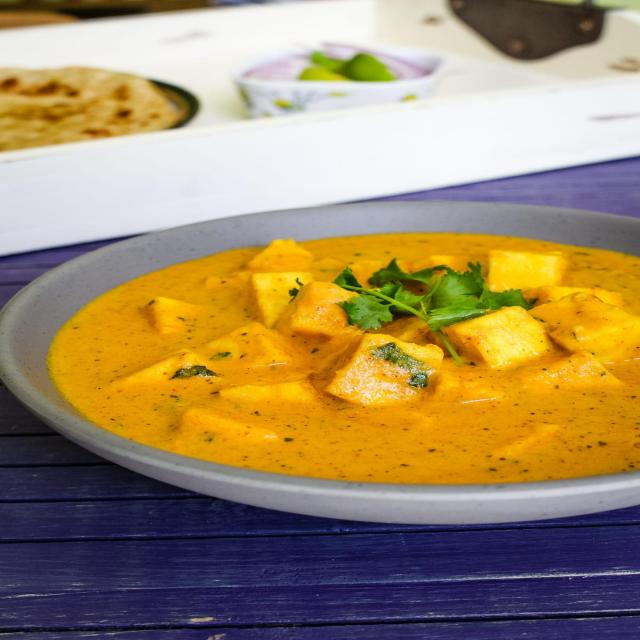roti: (0, 84, 150, 133)
